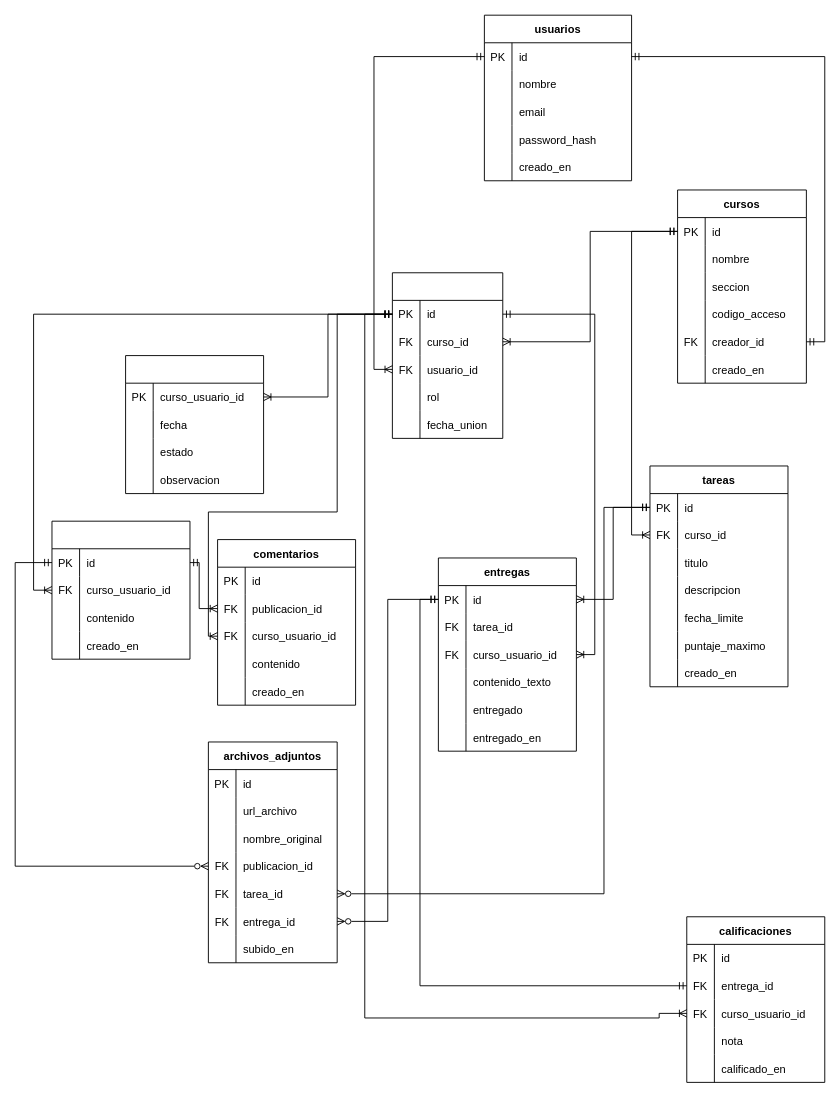
This 840x1098 diagram has some shape labels left out. Each missing label, with the box of its shape:
asistencias: (125, 355, 264, 494)
curso_usuarios: (391, 272, 503, 438)
publicaciones: (51, 520, 190, 659)
